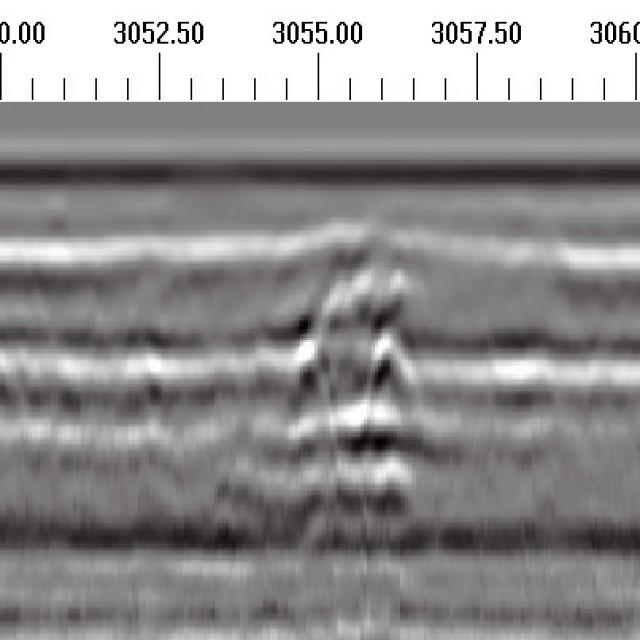loose: (284, 248, 419, 530)
